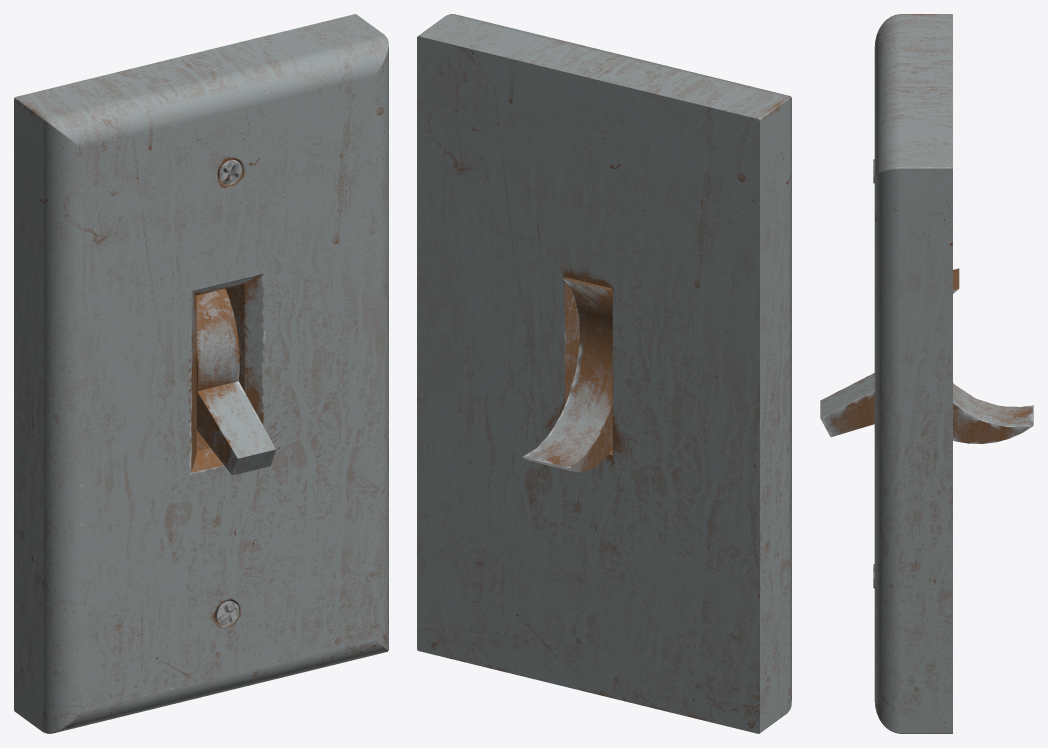
3 views of the same model, side by side, from view 1: azimuth 30°, elevation 25°; view 2: azimuth 150°, elevation 25°; view 3: azimuth 270°, elevation 25° (orthographic). The views are drawn at different scales.
Visible parts, largest first — view 1: Body, Switch; view 2: Body, Switch; view 3: Body, Switch.
Part boxes in pixels (x1,y1,x2,y2): Body: [14, 14, 388, 733]; Switch: [196, 288, 276, 475]; Body: [417, 14, 791, 733]; Switch: [523, 277, 612, 472]; Body: [874, 14, 952, 733]; Switch: [820, 268, 1033, 443].
Size of the model in its own units: 0.07 by 0.12 by 0.041.
1 material, 1 textured.
